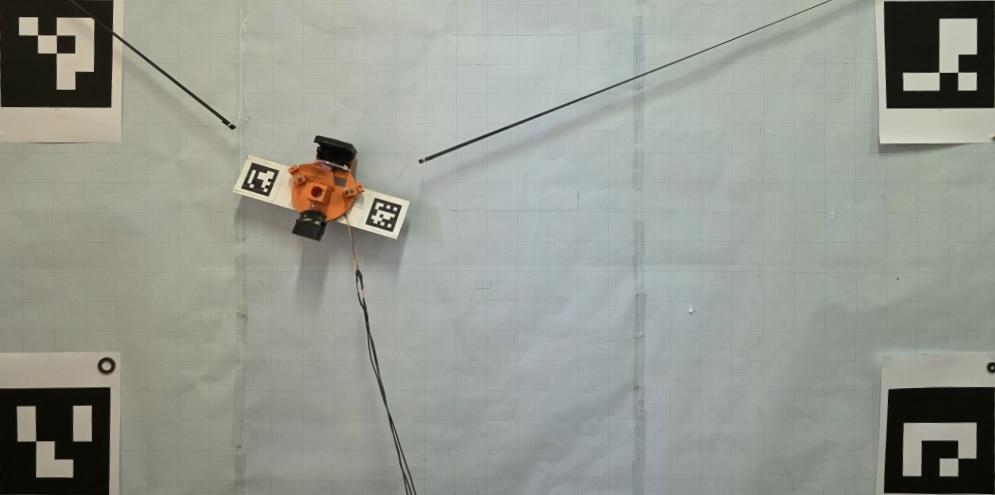robot: (288, 136, 366, 242)
